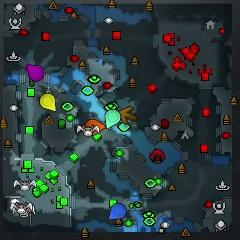p1: (108, 203, 127, 220)
p2: (106, 109, 120, 129)
p3: (26, 65, 44, 81)
p4: (40, 95, 56, 112)
p5: (86, 119, 105, 134)
x5: (120, 106, 136, 124)
